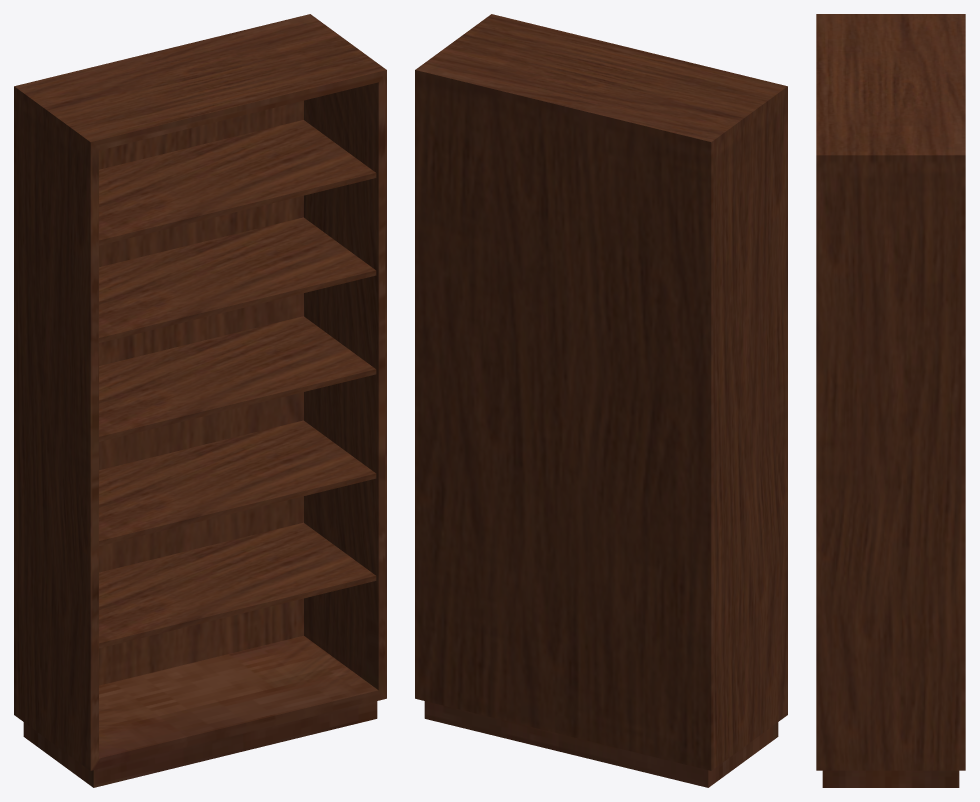
The model's file is BookcaseM.fbx.
3 renders of one model, left to right at view 1: azimuth 30°, elevation 25°; view 2: azimuth 150°, elevation 25°; view 3: azimuth 270°, elevation 25°, orthographic. The views are drawn at different scales.
Parts seen in each view (by area): view 1: BookcaseM; view 2: BookcaseM; view 3: BookcaseM.
Boxes of the visible parts, left/top/right/bottom form: BookcaseM: left=14, top=14, right=386, bottom=787; BookcaseM: left=415, top=14, right=787, bottom=787; BookcaseM: left=816, top=14, right=965, bottom=787.
Bounding box in the file's own units: 1.79 × 3.74 × 0.7986.
